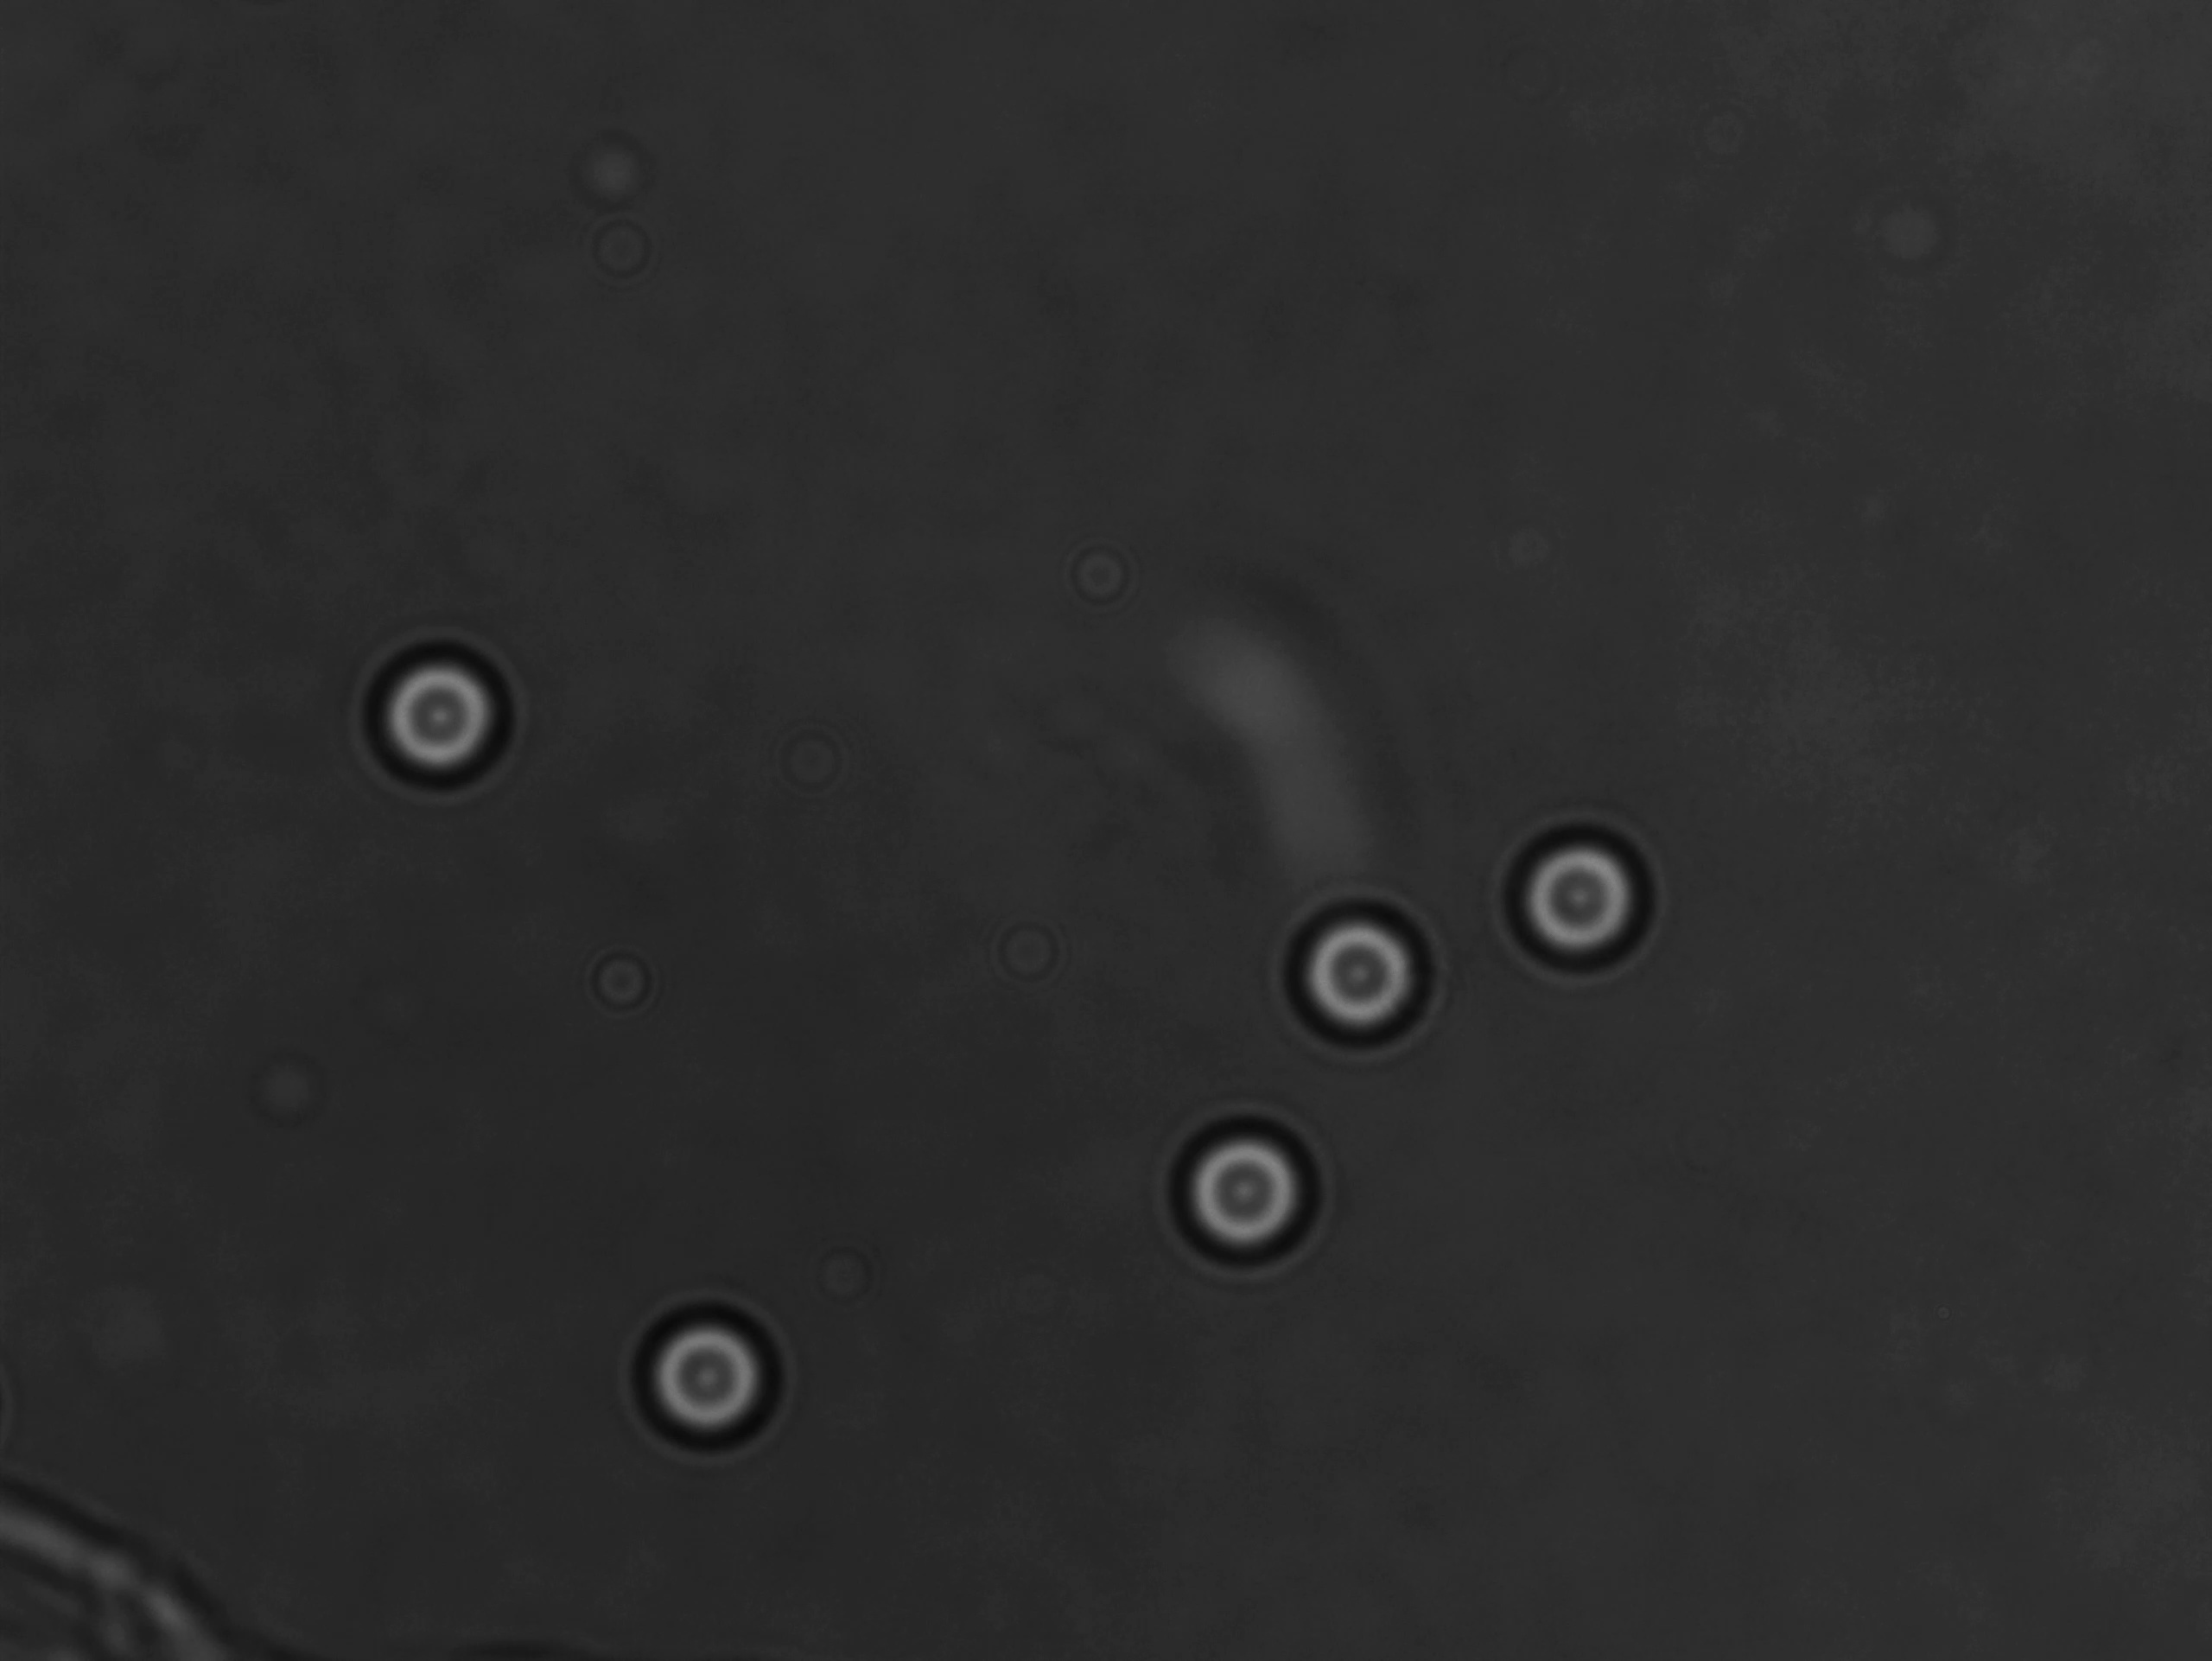depth:40: (616, 1286, 808, 1466), (1493, 811, 1685, 989), (1272, 888, 1457, 1068), (1148, 1113, 1322, 1286), (354, 632, 523, 796)
